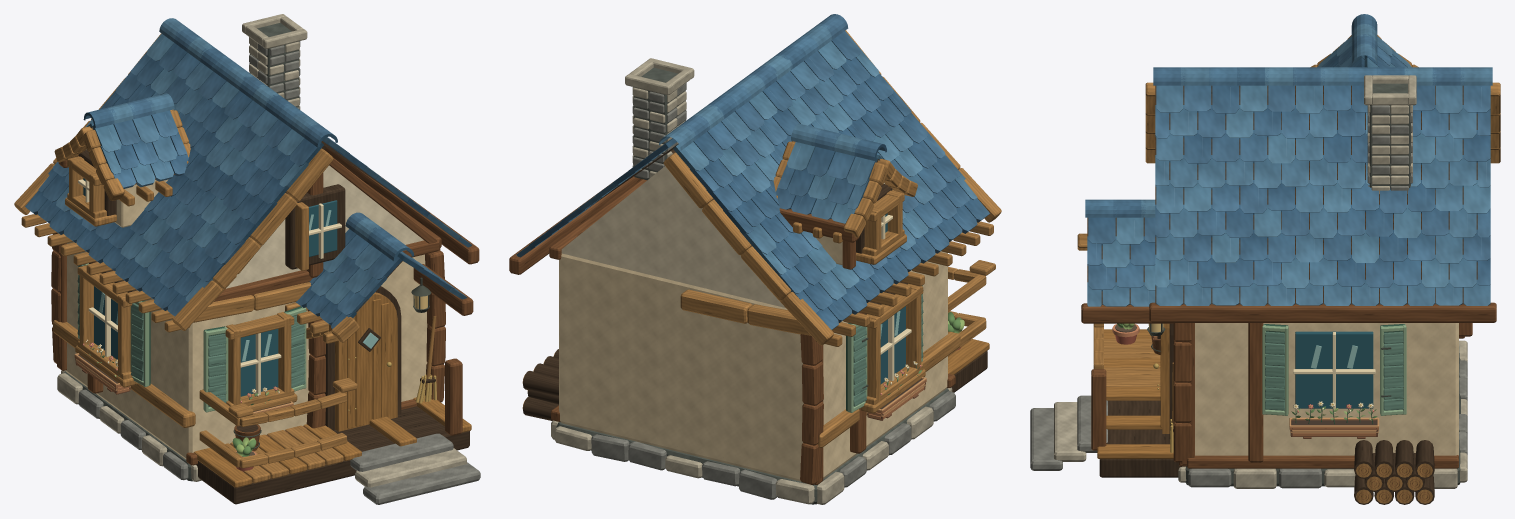
The model's file is cottage.glb.
3 renders of one model, left to right at view 1: azimuth 30°, elevation 25°; view 2: azimuth 150°, elevation 25°; view 3: azimuth 270°, elevation 25°, orthographic. The views are drawn at different scales.
Visible parts, largest first — view 1: Batch_0_0_-9223371994123205027, Batch_-1_0_-9223372003669441051, Batch_0_0_-9223372003719772718, Batch_0_0_-9223372003686218284, Batch_0_0_-9223372003652663834, Batch_-1_-1_-9223372003669441051, Batch_0_0_-9223372003635886617, Batch_-1_-1_-9223371994123205027, Batch_0_0_-9223372003619109400, Batch_0_0_-9223372003702995501, Batch_-1_0_-9223372003568777749, Batch_0_-1_-9223372003602332183 (+16 smaller); view 2: Batch_0_0_-9223372003719772718, Batch_0_0_-9223371994123205027, Batch_-1_-1_-9223372003669441051, Batch_0_0_-9223372003702995501, Batch_-1_-1_-9223371994123205027, Batch_-1_0_-9223372003669441051, Batch_-1_-1_-9223372003686218284, Batch_0_-1_-9223372003602332183, Batch_0_-1_-9223372003619109400, Batch_0_0_-9223372003686218284, Batch_-1_-1_-9223372003619109400, Batch_-1_-1_-9223372003602332183 (+11 smaller); view 3: Batch_0_0_-9223371994123205027, Batch_0_0_-9223372003719772718, Batch_0_0_-9223372003686218284, Batch_0_0_-9223372003652663834, Batch_0_-1_-9223372003518446098, Batch_0_-1_-9223372003602332183, Batch_0_0_-9223372003619109400, Batch_-1_0_-9223372003669441051, Batch_0_-1_-9223372003652663834, Batch_0_0_-9223372003635886617, Batch_0_0_-9223372003602332183, Batch_-1_-1_-9223371994123205027 (+13 smaller).
Part boxes in pixels (x1,y1,x2,y2): Batch_0_0_-9223371994123205027: (25,18,471,328); Batch_-1_0_-9223372003669441051: (53,148,359,483); Batch_0_0_-9223372003719772718: (65,241,427,459); Batch_0_0_-9223372003686218284: (186,147,479,465); Batch_0_0_-9223372003652663834: (142,141,469,504); Batch_-1_-1_-9223372003669441051: (14,33,190,387); Batch_0_0_-9223372003635886617: (335,292,471,446); Batch_-1_-1_-9223371994123205027: (83,93,188,188); Batch_0_0_-9223372003619109400: (350,433,480,504); Batch_0_0_-9223372003702995501: (226,165,423,288); Batch_-1_0_-9223372003568777749: (131,303,305,406); Batch_0_-1_-9223372003602332183: (242,14,307,109); Batch_0_0_-9223372003719772718: (559,251,947,481); Batch_0_0_-9223371994123205027: (516,14,989,329); Batch_-1_-1_-9223372003669441051: (663,141,925,413); Batch_0_0_-9223372003702995501: (561,166,785,307); Batch_-1_-1_-9223371994123205027: (776,123,886,223); Batch_-1_0_-9223372003669441051: (817,30,1001,447); Batch_-1_-1_-9223372003686218284: (779,208,866,484); Batch_0_-1_-9223372003602332183: (551,58,702,478); Batch_0_-1_-9223372003619109400: (591,83,686,470); Batch_0_0_-9223372003686218284: (509,173,955,421); Batch_-1_-1_-9223372003619109400: (702,456,866,499); Batch_-1_-1_-9223372003602332183: (775,441,888,504); Batch_0_0_-9223371994123205027: (1085,67,1492,306); Batch_0_0_-9223372003719772718: (1195,323,1458,455); Batch_0_0_-9223372003686218284: (1081,302,1496,468); Batch_0_0_-9223372003652663834: (1087,85,1477,477); Batch_0_-1_-9223372003518446098: (1295,331,1373,408); Batch_0_-1_-9223372003602332183: (1324,75,1467,488); Batch_0_0_-9223372003619109400: (1030,395,1321,488); Batch_-1_0_-9223372003669441051: (1077,64,1317,386); Batch_0_-1_-9223372003652663834: (1354,440,1434,504); Batch_0_0_-9223372003635886617: (1097,323,1173,458); Batch_0_0_-9223372003602332183: (1054,402,1276,488); Batch_-1_-1_-9223371994123205027: (1317,14,1411,67).
Size of the model in its own units: 5.27 by 5.4 by 6.23.
Materials: 61 (11 with a texture image).
